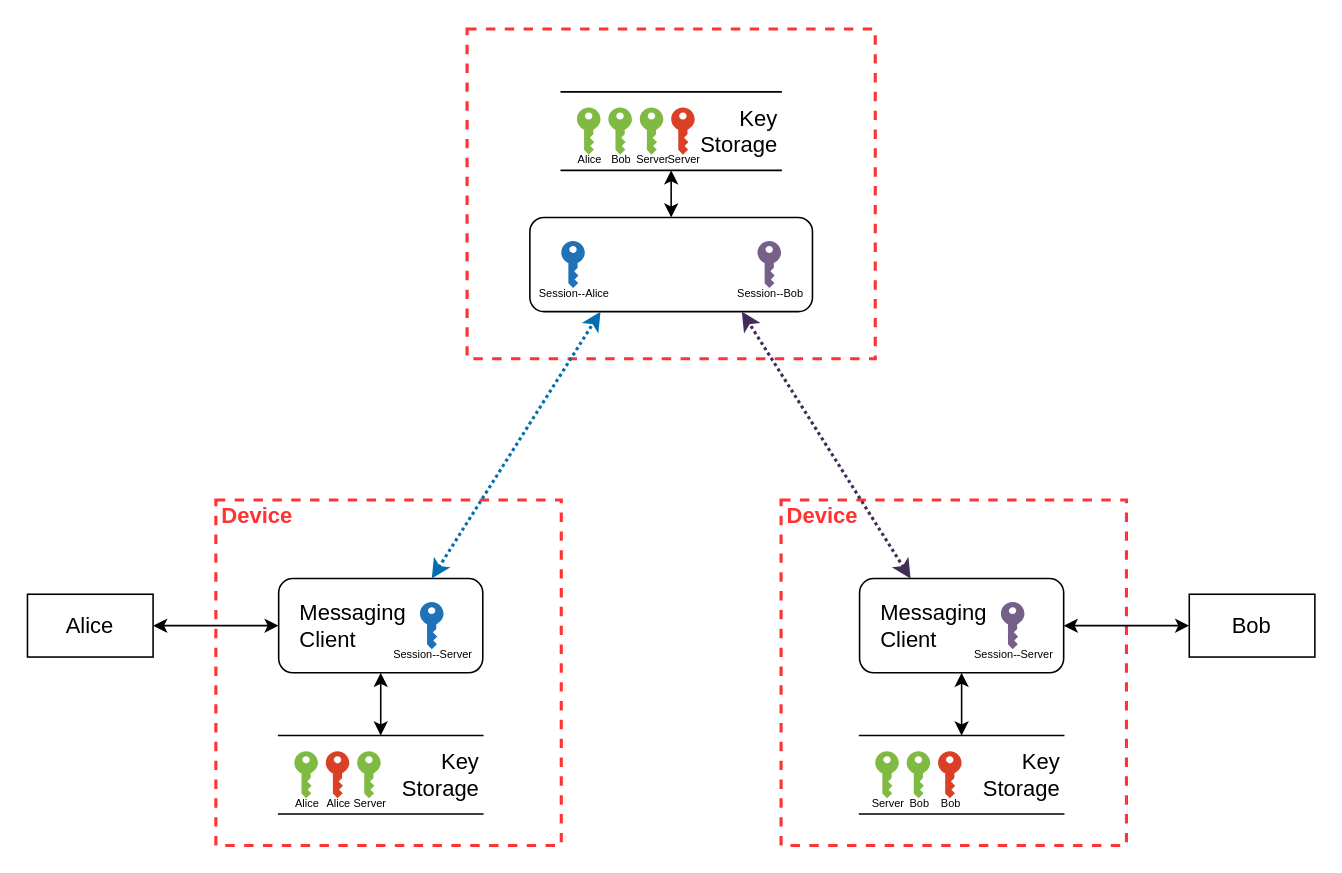
This 1342x873 diagram has some shape labels left out. The box of each missing label's shape, as (x1, y1, x2, y2) in pixels:
Messaging Server: (528, 216, 812, 312)
Messaging Service Provider: (465, 27, 876, 360)
